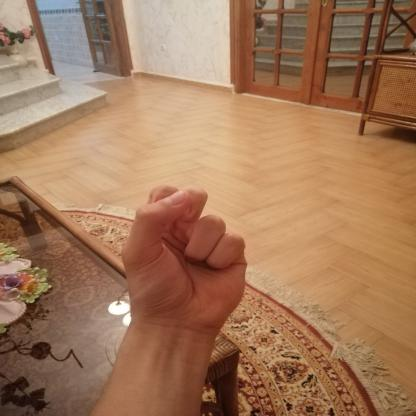QAAF: (98, 175, 270, 346)
